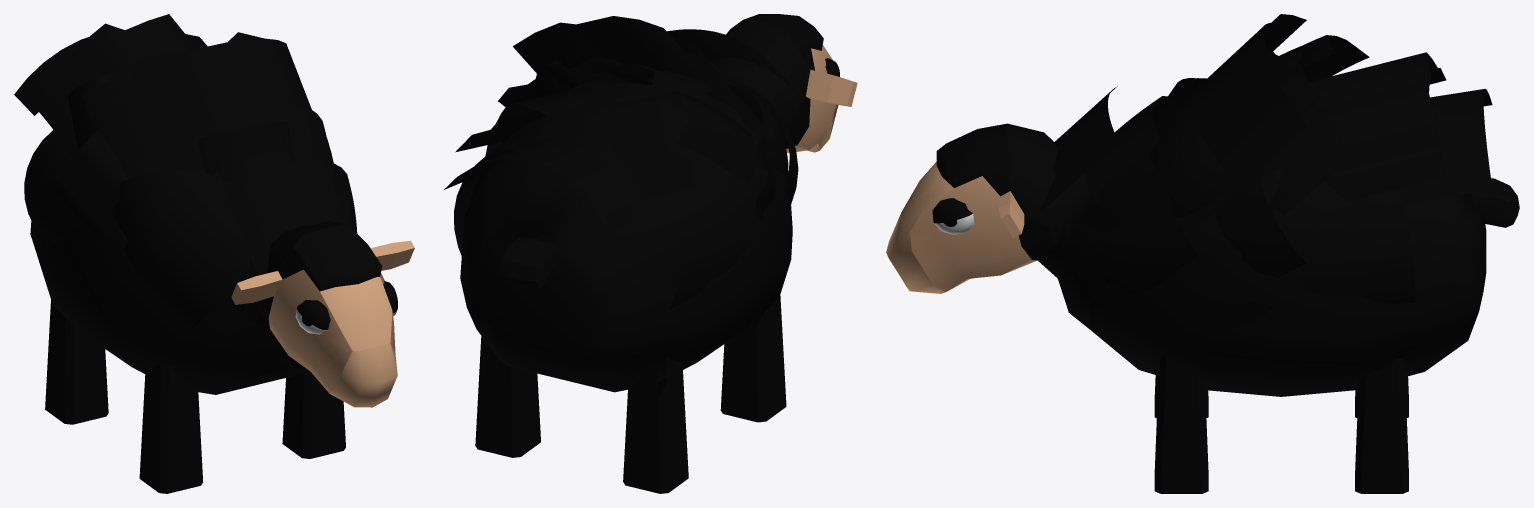
File: Sheep_Enemy.fbx
3 views of the same model, side by side, from view 1: azimuth 30°, elevation 25°; view 2: azimuth 150°, elevation 25°; view 3: azimuth 270°, elevation 25° (orthographic). The views are drawn at different scales.
Parts seen in each view (by area): view 1: Sheep_enemy; view 2: Sheep_enemy; view 3: Sheep_enemy.
Boxes of the visible parts, bbox=[...] form: Sheep_enemy: bbox=[14, 14, 414, 493]; Sheep_enemy: bbox=[444, 14, 857, 493]; Sheep_enemy: bbox=[886, 14, 1519, 493].
Bounding box in the file's own units: 99.21 × 136 × 190.
